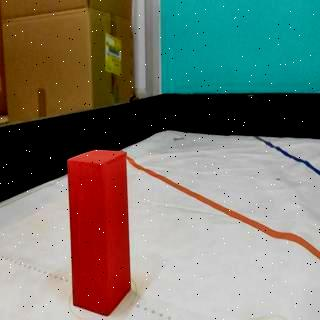redbox: (67, 148, 132, 318)
